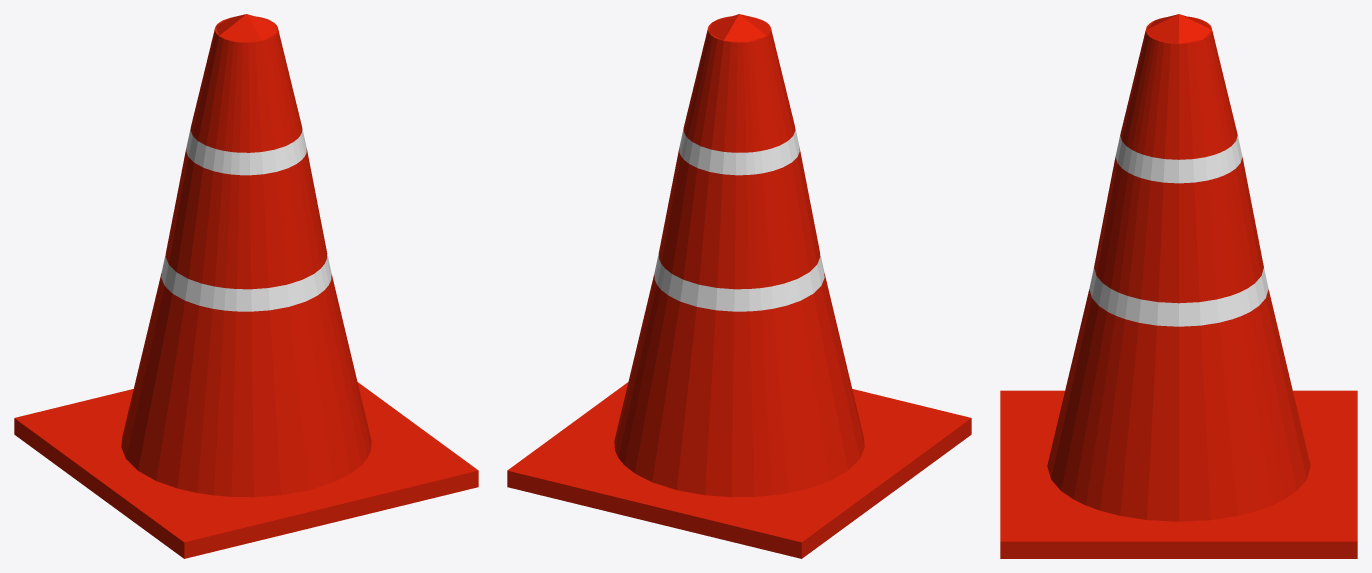
3 renders of one model, left to right at view 1: azimuth 30°, elevation 25°; view 2: azimuth 150°, elevation 25°; view 3: azimuth 270°, elevation 25°, orthographic. The views are drawn at different scales.
Visible parts, largest first — view 1: 三角コーン; view 2: 三角コーン; view 3: 三角コーン.
Part boxes in pixels (x1=…): 三角コーン: x1=14, y1=14, x2=478, y2=558; 三角コーン: x1=507, y1=14, x2=971, y2=558; 三角コーン: x1=1000, y1=14, x2=1357, y2=558.
Size of the model in its own units: 200 by 290 by 200.
